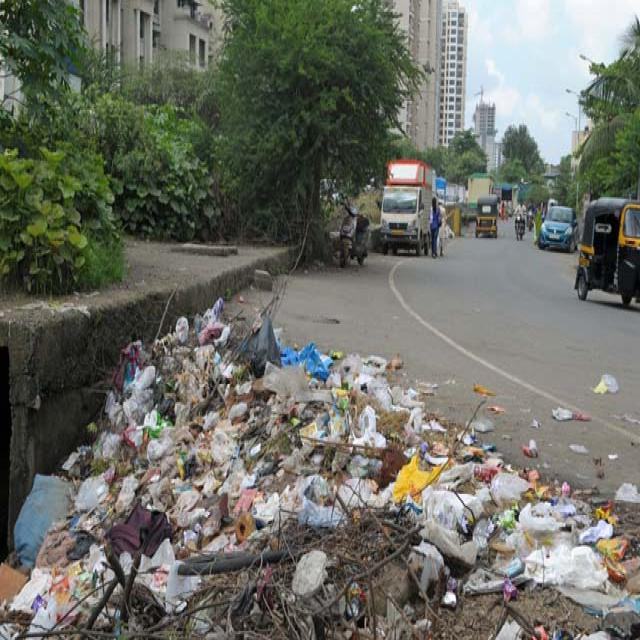garbage: (0, 272, 640, 640)
